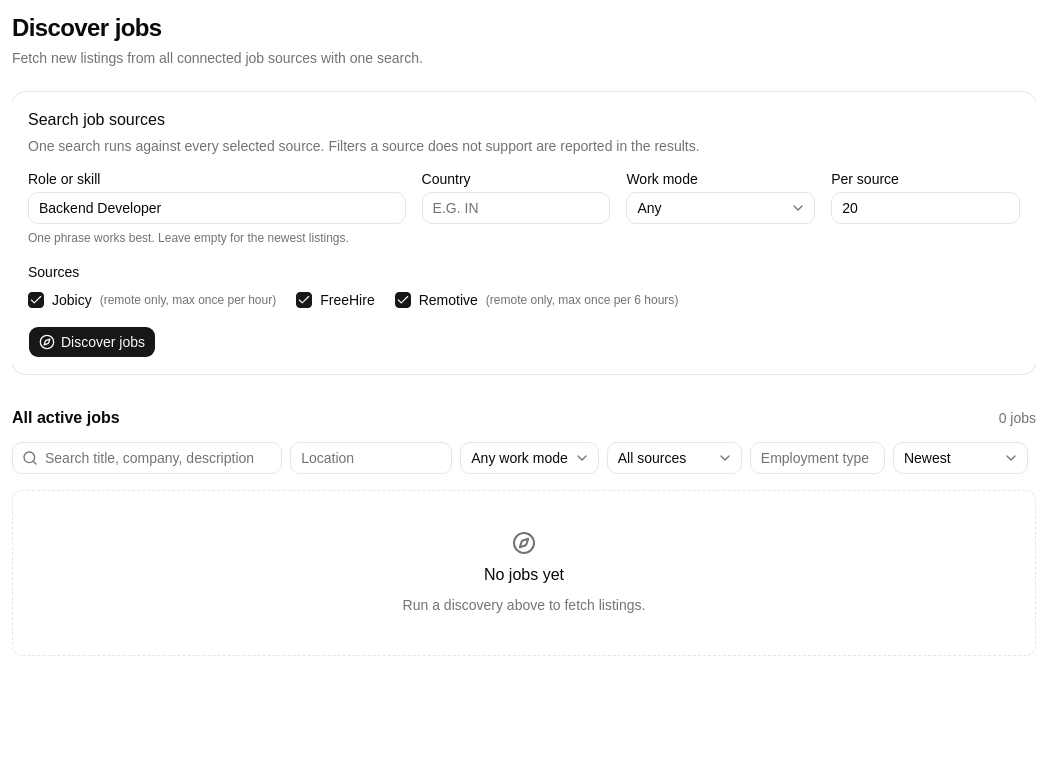
Scenario: DiscoverPage › runs one search across every source and reports each outcome
Expected: the field labelled "Role or skill" holds "Backend Developer", [28,192,406,224]
Expected: the checkbox named "Jobicy" next to "Jobicy" is checked, [28,292,44,308]
In the field labelled "Country": (516, 208) [422,192,610,224], type "in"
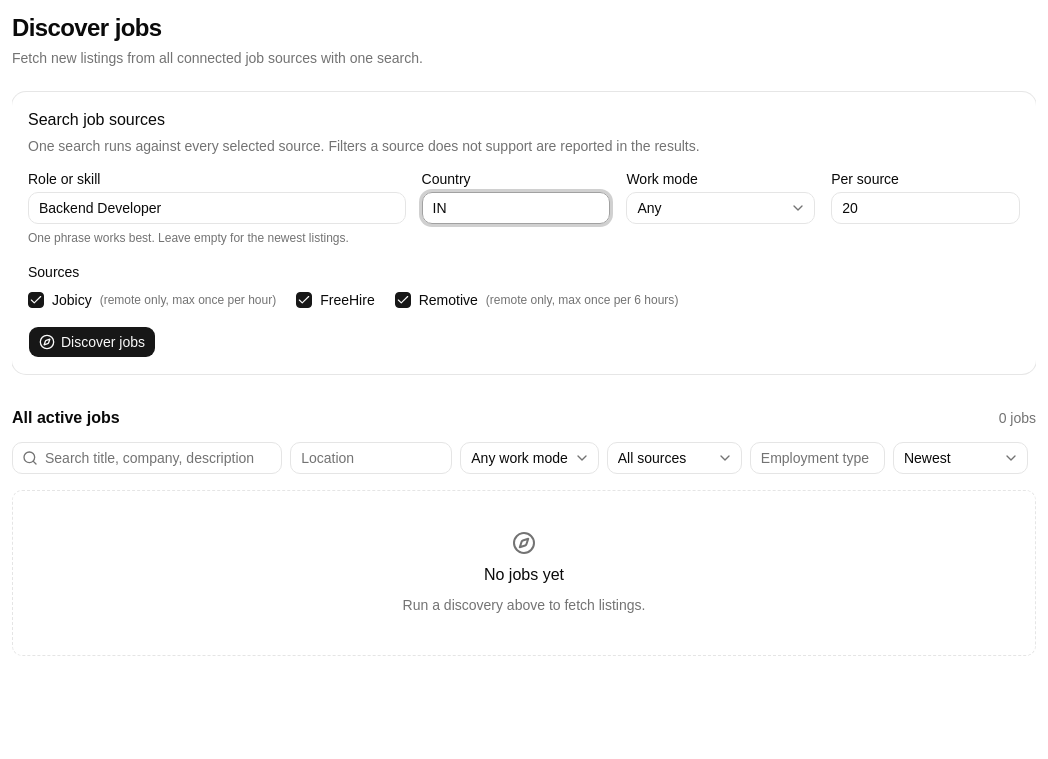
Click the button "Discover jobs": click(92, 342) [28,326,156,358]
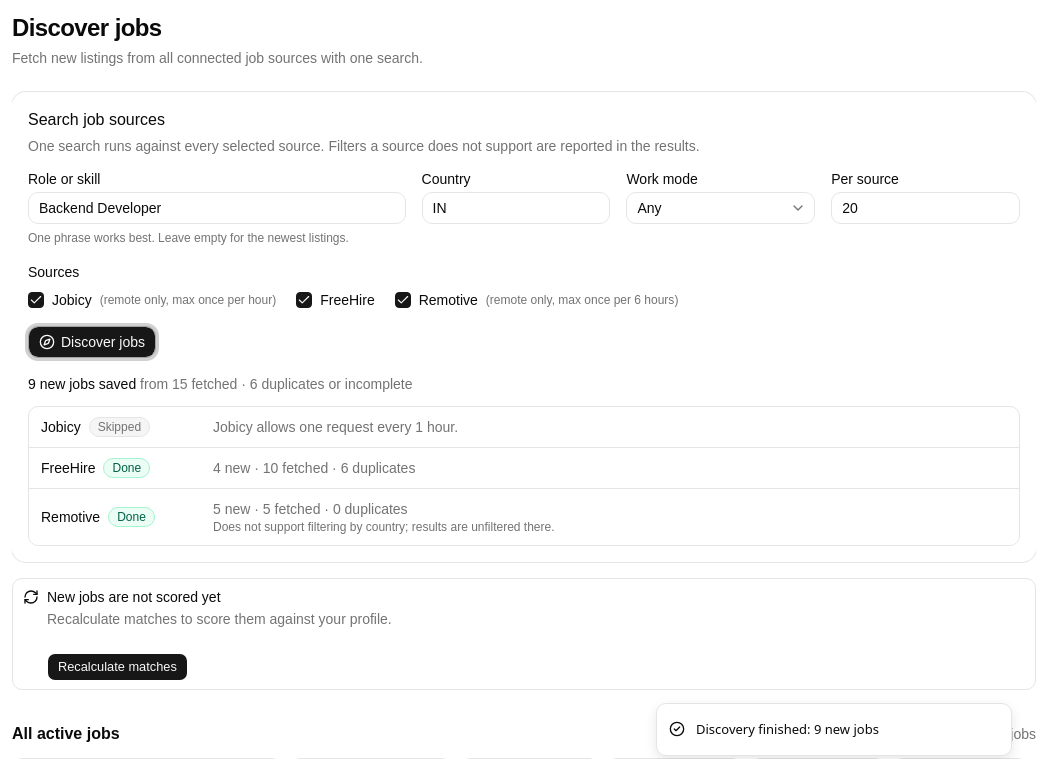
Result: the text "9 new jobs saved" is shown at [28,376,136,392]
Result: the text "Jobicy allows one request every 1 hour." is shown at [213,419,458,435]
Result: the text "4 new · 10 fetched · 6 duplicates" is shown at [213,460,415,476]
